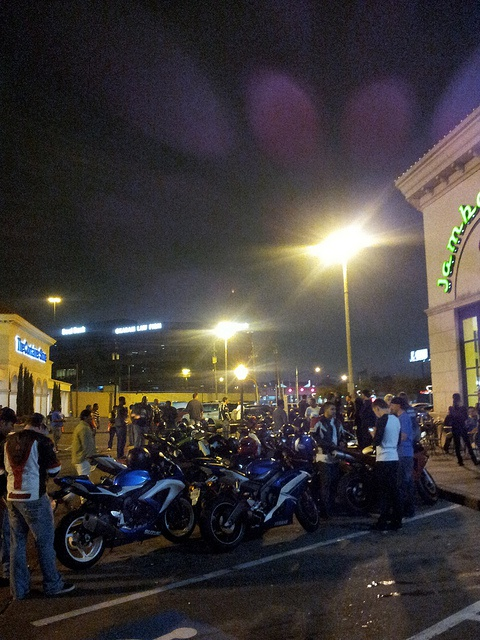non-vehicle: (51, 452, 196, 569), (195, 420, 320, 549), (328, 426, 438, 514), (141, 431, 239, 475), (307, 447, 338, 521), (88, 446, 151, 477), (186, 459, 214, 522), (238, 423, 277, 460), (185, 427, 217, 440)
